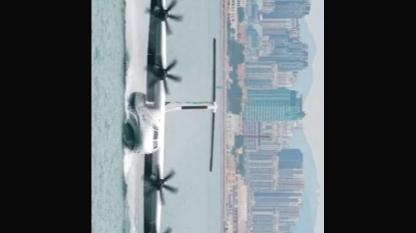AG600: (120, 0, 219, 232)
